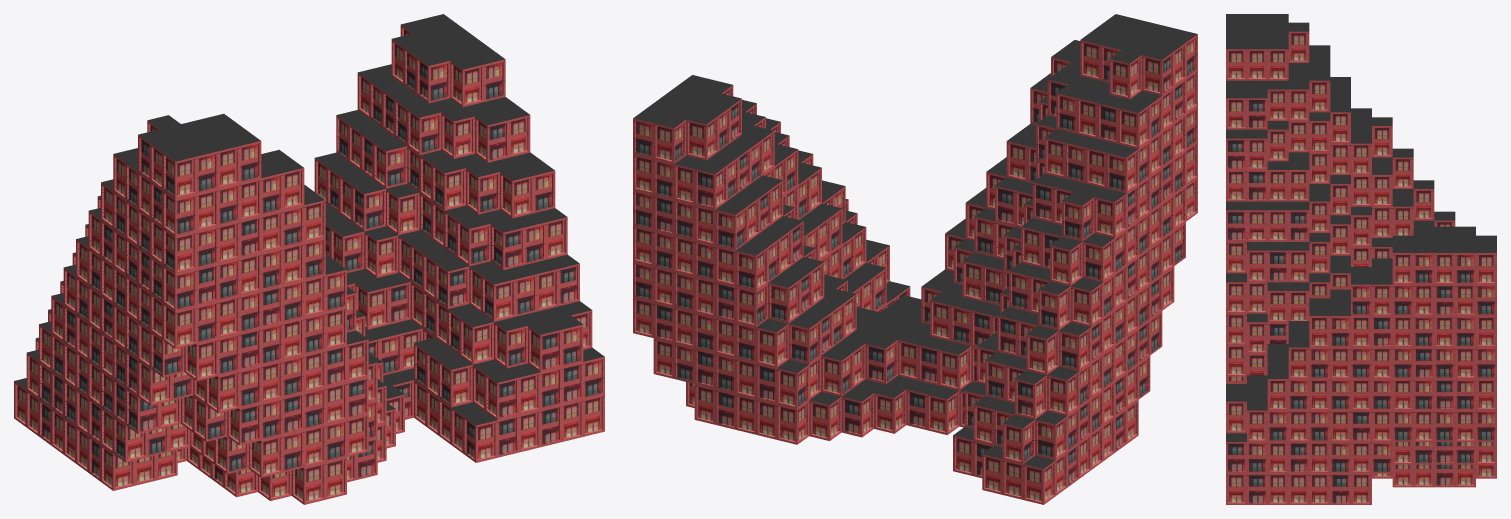
Rendered from archweekend_1_4.glb.
3 views of the same model, side by side, from view 1: azimuth 30°, elevation 25°; view 2: azimuth 150°, elevation 25°; view 3: azimuth 270°, elevation 25° (orthographic). The views are drawn at different scales.
Parts seen in each view (by area): view 1: house-4; view 2: house-4; view 3: house-4.
Boxes of the visible parts, x1=… form: house-4: x1=14, y1=14, x2=604, y2=504; house-4: x1=633, y1=14, x2=1197, y2=504; house-4: x1=1226, y1=14, x2=1496, y2=504.
Bounding box in the file's own units: 60 × 50 × 39.
4 materials, 3 textured.
